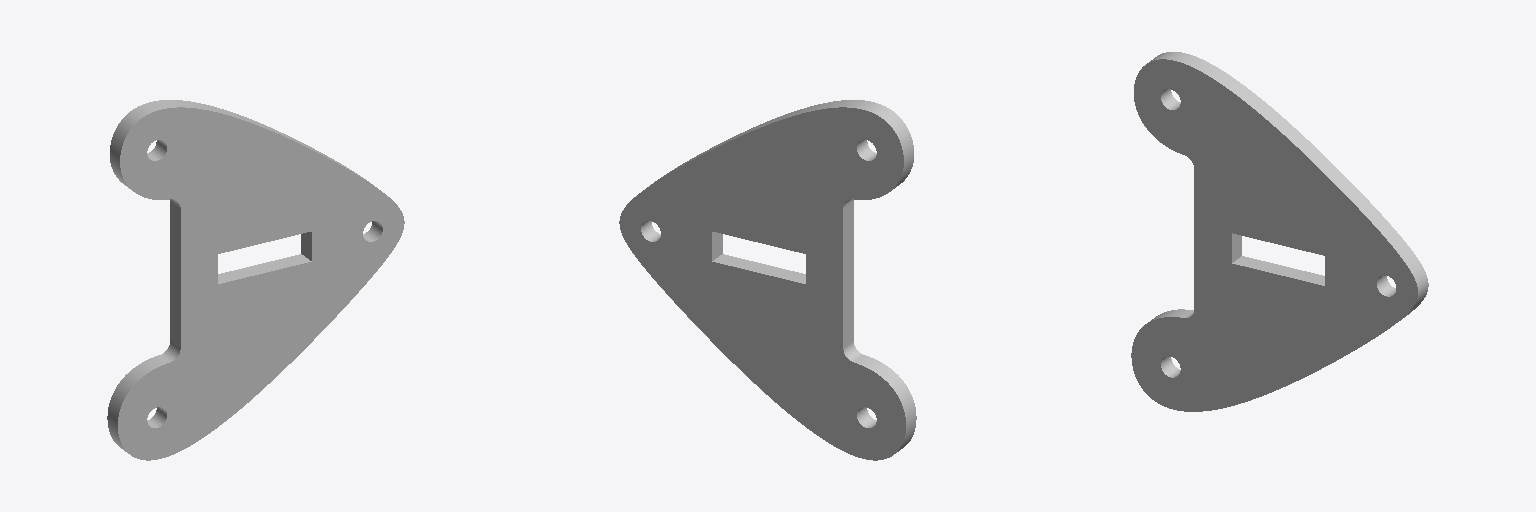
The model's file is LeadScrewMountPlate.obj.
3 views of the same model, side by side, from view 1: azimuth 30°, elevation 25°; view 2: azimuth 150°, elevation 25°; view 3: azimuth 330°, elevation 25° (orthographic).
Parts seen in each view (by area): view 1: Body1; view 2: Body1; view 3: Body1.
Part boxes in pixels (bbox=[...]): Body1: bbox=[107, 100, 404, 460]; Body1: bbox=[619, 100, 916, 460]; Body1: bbox=[1131, 52, 1428, 411].
Bounding box in the file's own units: 79.71 × 92.76 × 5.